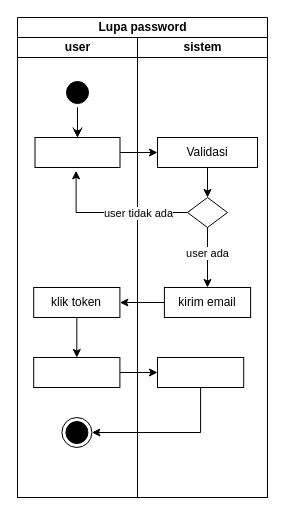
This 285x515 diagram has some shape labels left out. The box of each missing label's shape, as (x1, y1, x2, y2) in pixels:
input email: (34, 136, 120, 168)
input password baru: (33, 356, 120, 388)
update password: (156, 356, 244, 388)
